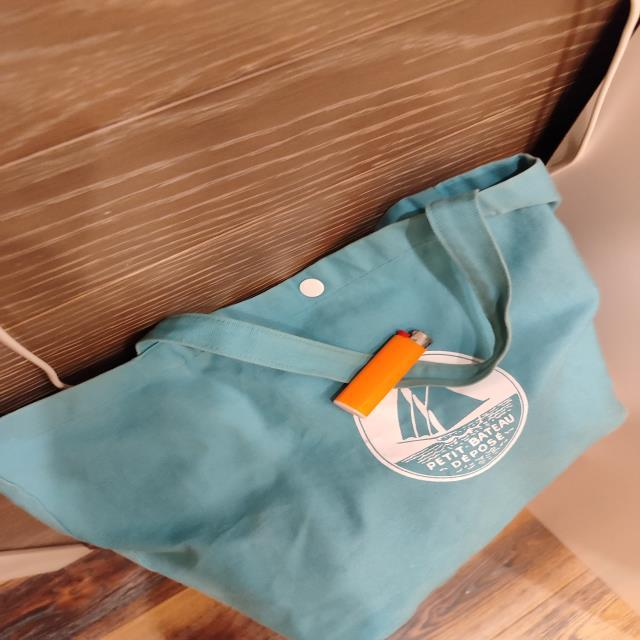lighter: (333, 331, 429, 416)
